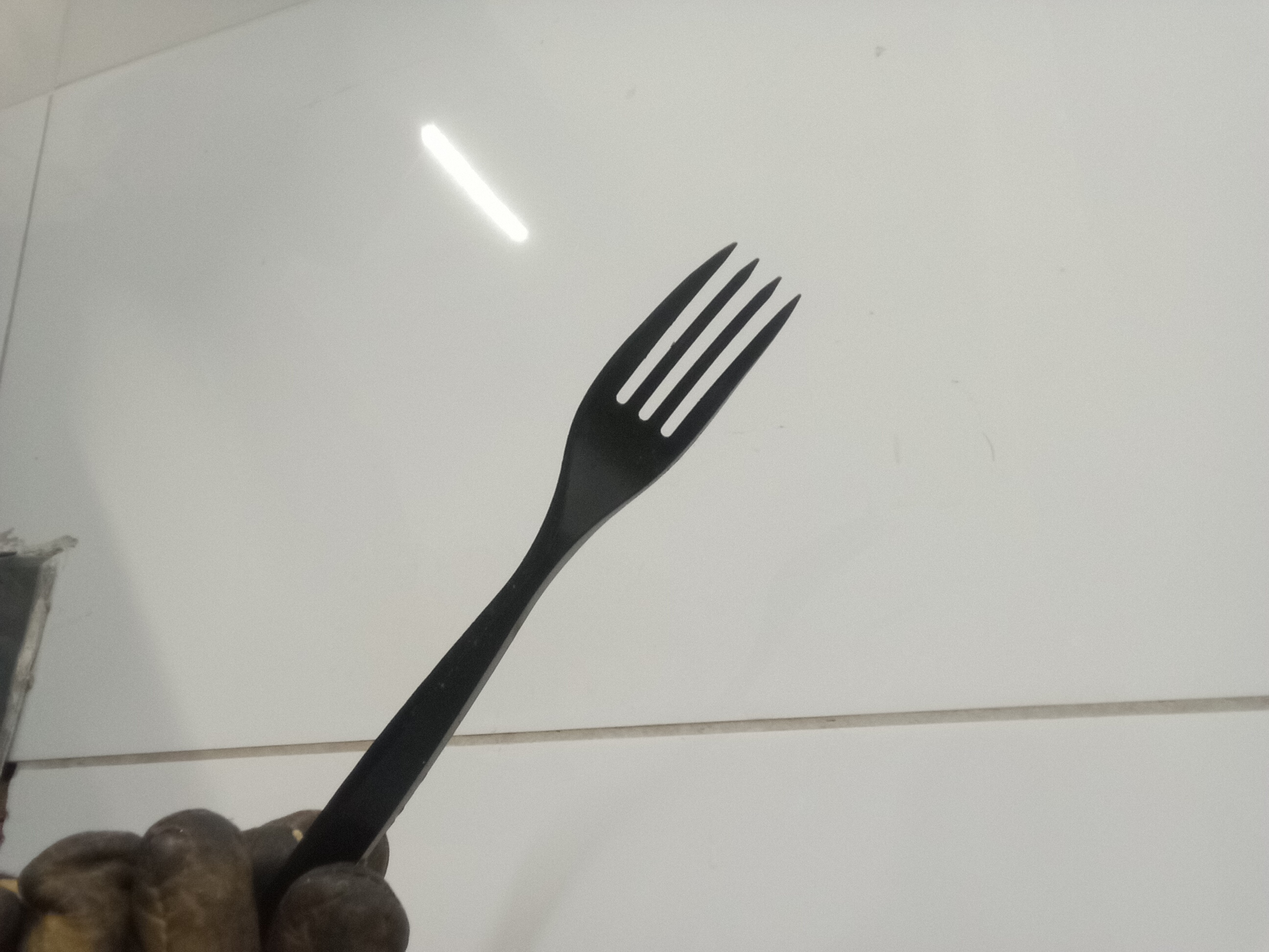Ordinario: (264, 242, 804, 952)
